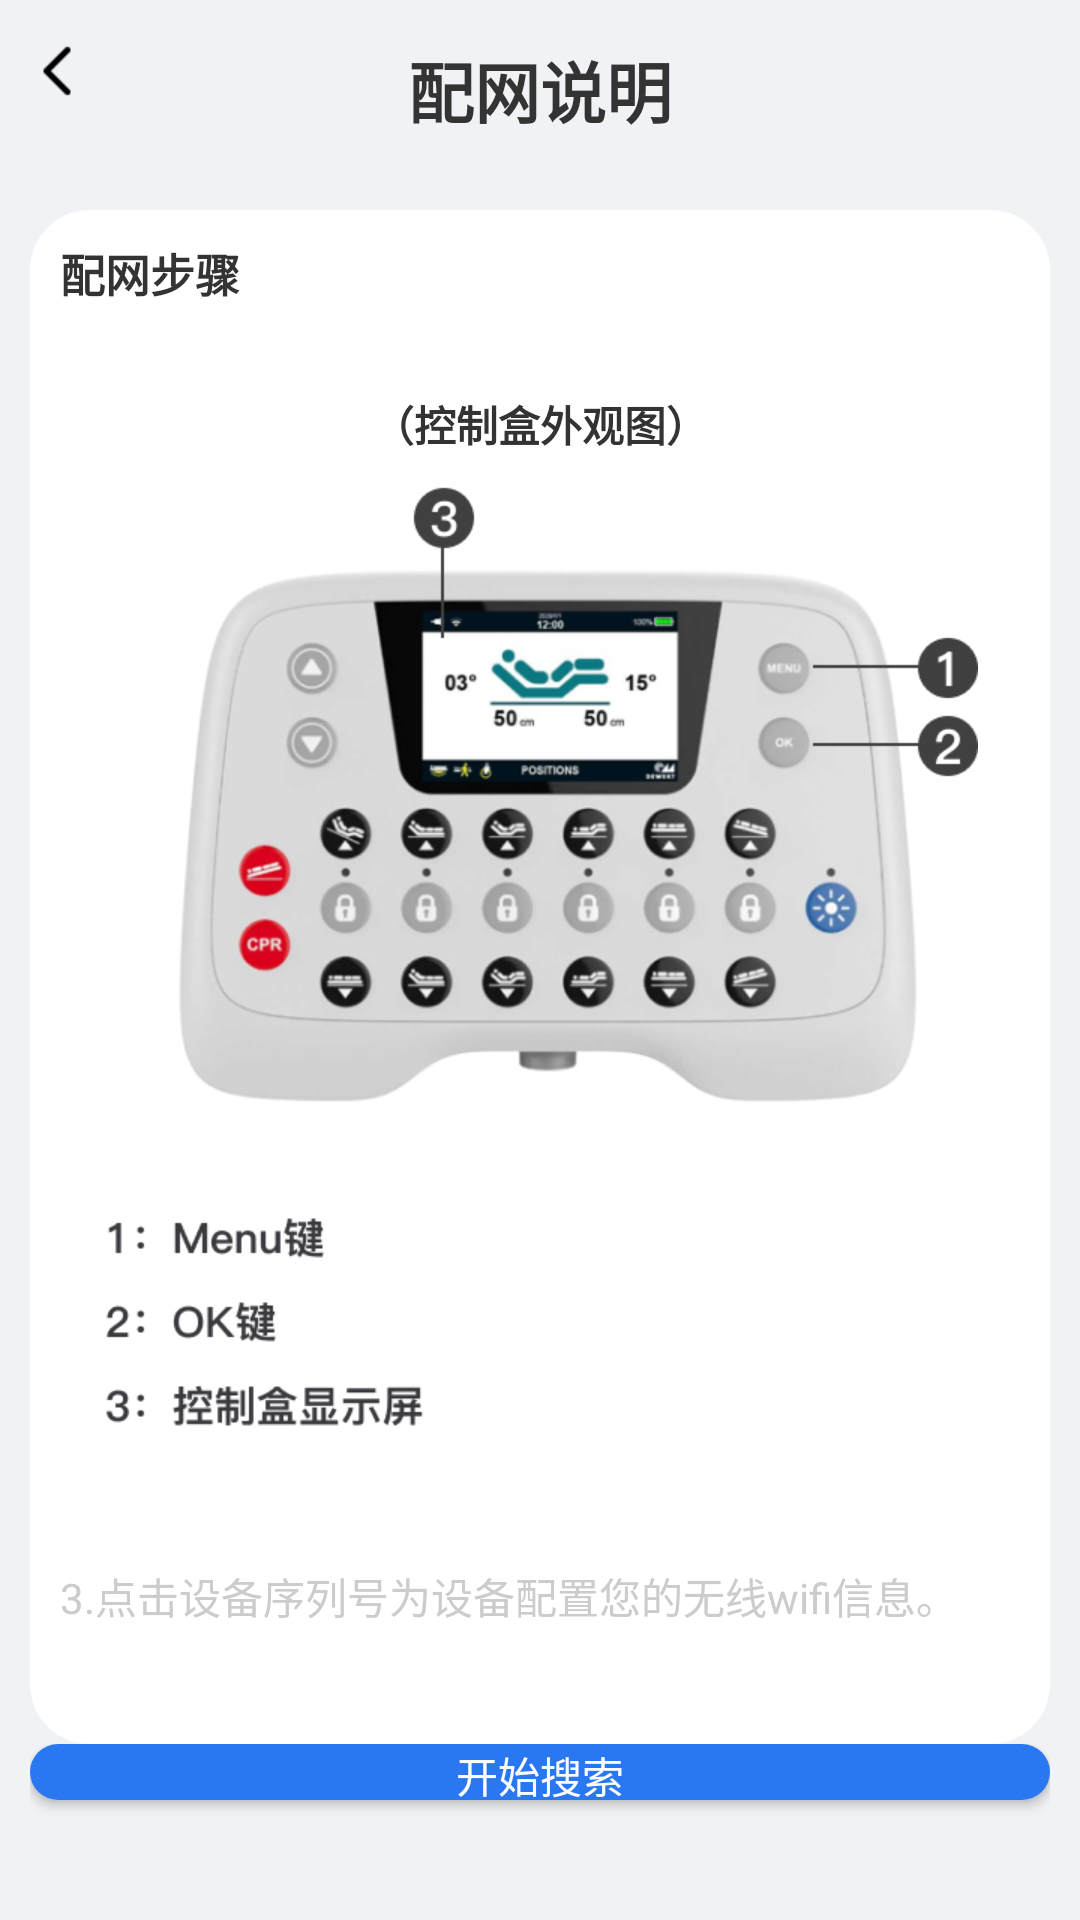

Icon click points for this 1080px×1920px phone screenshot, format (x,y):
back: (57,71)
